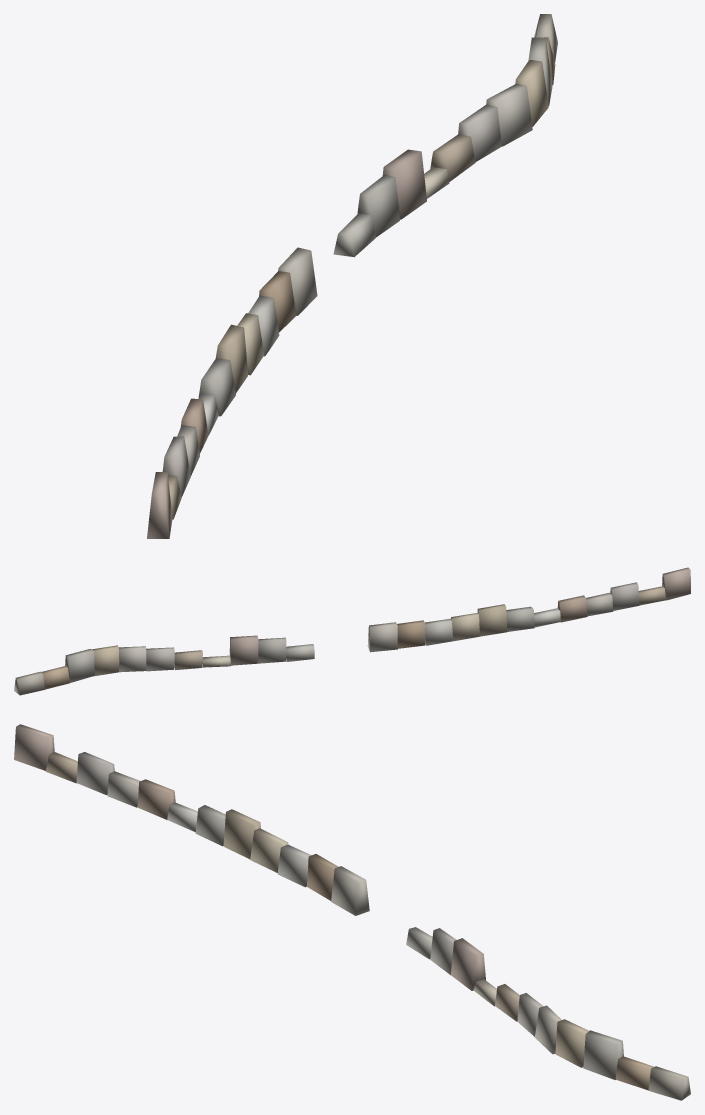
The model's file is farm_29_16_far.glb.
3 views of the same model, one above another, from view 1: azimuth 30°, elevation 25°; view 2: azimuth 150°, elevation 25°; view 3: azimuth 270°, elevation 25° (orthographic). The views are drawn at different scales.
Parts seen in each view (by area): view 1: geometry_0; view 2: geometry_0; view 3: geometry_0.
Boxes of the visible parts, left/top/right/bottom form: geometry_0: left=147, top=14, right=557, bottom=538; geometry_0: left=14, top=567, right=690, bottom=695; geometry_0: left=14, top=724, right=690, bottom=1100.
Bounding box in the file's own units: 28.01 × 3.36 × 26.66.
